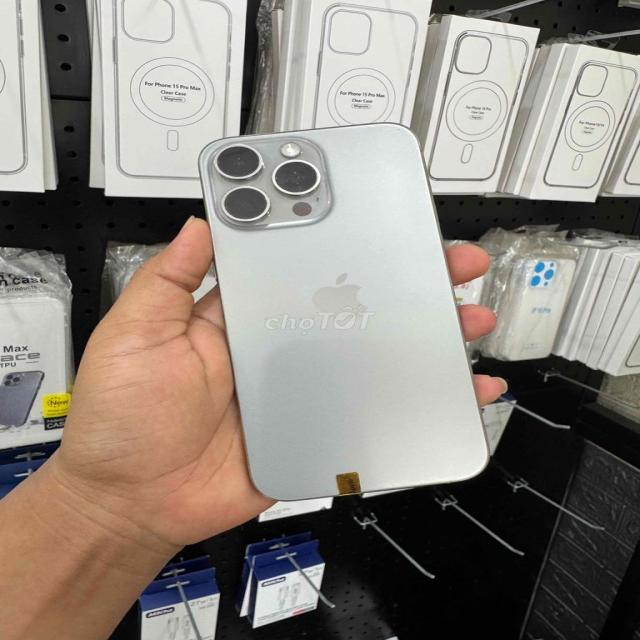gen_15: (182, 115, 504, 514)
